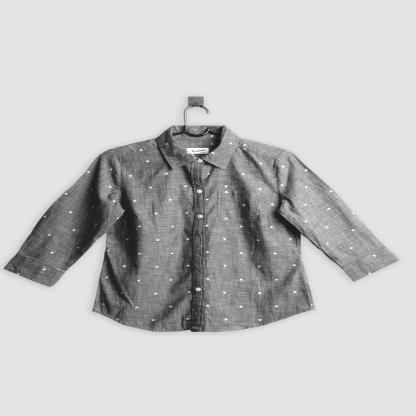dress: (5, 112, 416, 338)
